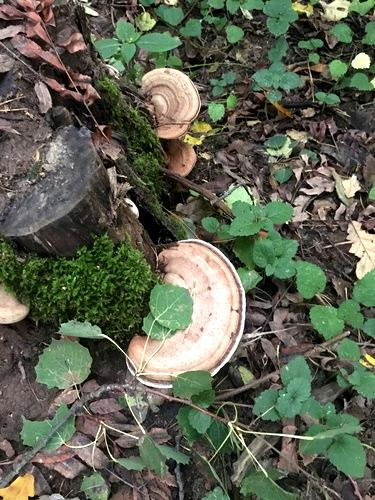Ganoderma - Fruit Body: (124, 238, 251, 389), (140, 67, 198, 137), (154, 143, 200, 177)
